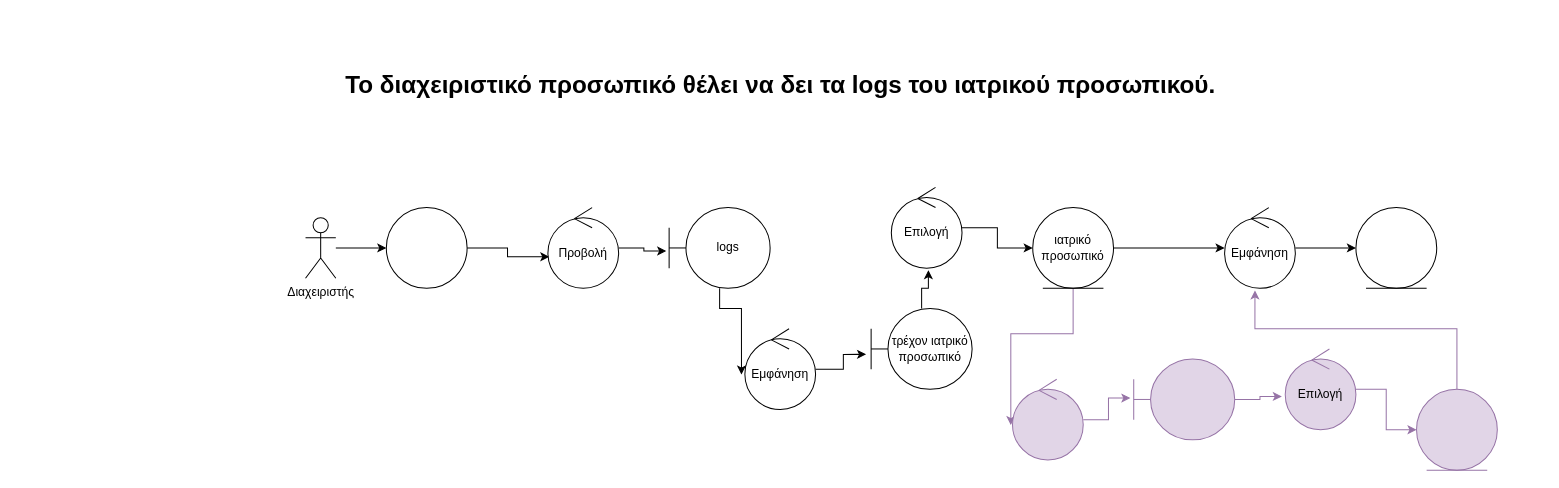
Some shapes in this 1559 by 488 pixel diagram are drawn without their labels. Each missing label, with the centre of its shape:
log: point 1396,247
Αρχική οθόνη: point 426,247
Εμφάνιση: point 1047,419
Ημερολογίου: point 1184,399
Ημερομηνίας: point 1456,429
